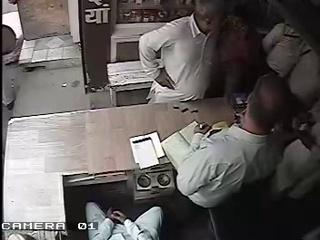Normal: (162, 74, 308, 240), (138, 0, 227, 104), (85, 202, 163, 240)
